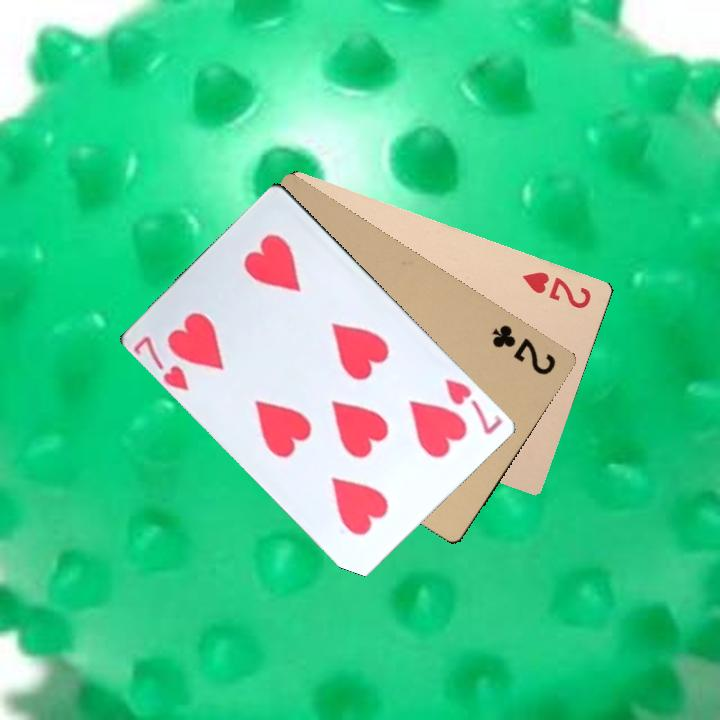2c: (487, 320, 559, 378)
2h: (518, 267, 594, 312)
7h: (441, 374, 506, 437), (131, 331, 192, 394)
